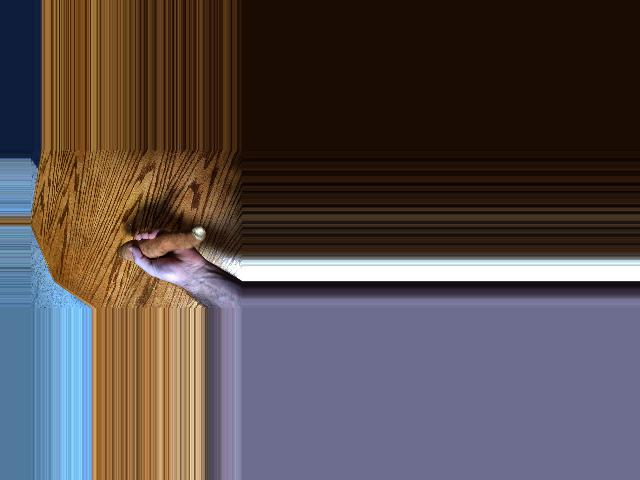sweet_potato: (126, 230, 213, 265)
